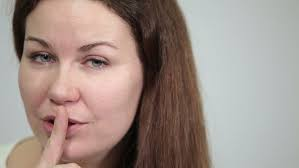white_female: (13, 28, 149, 158)
